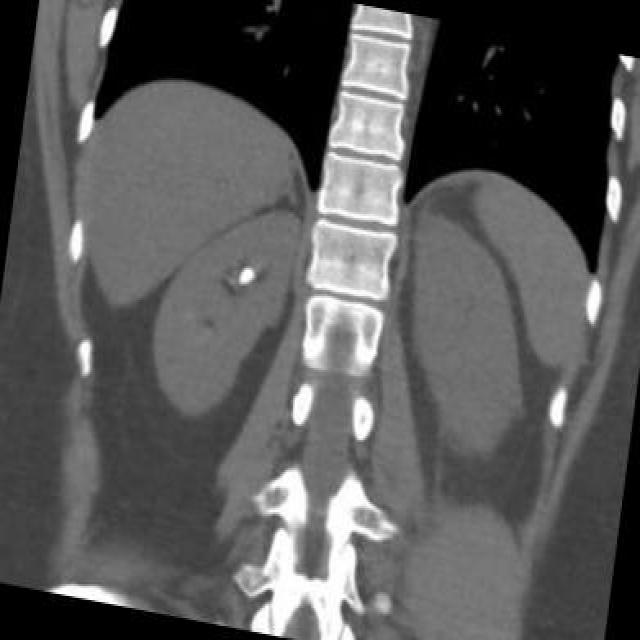Tas_Var: (235, 261, 256, 289), (225, 276, 237, 288)
